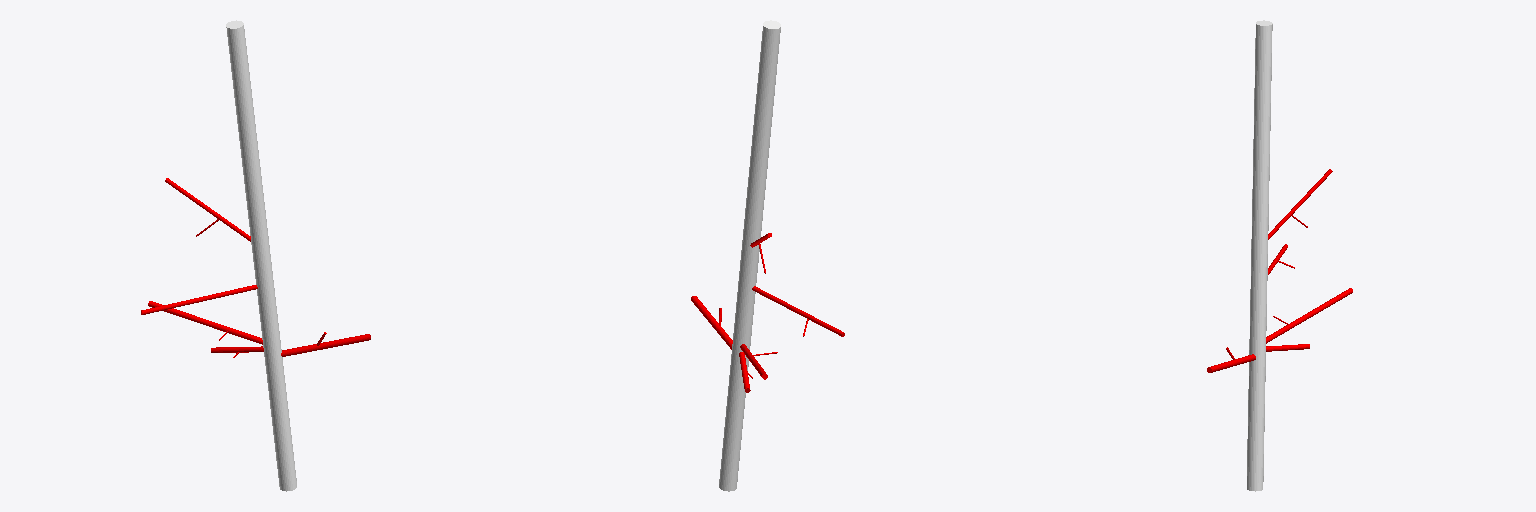
The robot description file, URDF, robot "tree_181.urdf":
<?xml version='1.0' encoding='UTF-8'?>
<robot name="tree_181.urdf">
  <link name="branch_0">
    <inertial>
      <origin xyz="0.0 0.0 0.0" rpy="0.0 -0.0 0.0"/>
      <mass value="0.1"/>
      <inertia ixx="0.001" ixy="0.0" ixz="0.0" iyy="0.001" iyz="0.0" izz="0.001"/>
    </inertial>
    <visual name="branch_0_visual">
      <geometry>
        <cylinder radius="0.11733479107536732" length="6.85242201876696"/>
      </geometry>
      <material name="branch_material"/>
      <origin xyz="-0.36778526017082525 0.0646583247867556 3.4058002267099305" rpy="-6.834086191767504e-18 0.10920778779354538 2.967566444187684"/>
    </visual>
    <collision name="branch_0_collision">
      <geometry>
        <cylinder radius="0.11733479107536732" length="6.85242201876696"/>
      </geometry>
      <origin xyz="-0.36778526017082525 0.0646583247867556 3.4058002267099305" rpy="-6.834086191767504e-18 0.10920778779354538 2.967566444187684"/>
    </collision>
  </link>
  <link name="branch_1">
    <inertial>
      <origin xyz="0.0 0.0 0.0" rpy="0.0 -0.0 0.0"/>
      <mass value="0.1"/>
      <inertia ixx="0.001" ixy="0.0" ixz="0.0" iyy="0.001" iyz="0.0" izz="0.001"/>
    </inertial>
    <visual name="branch_1_visual">
      <geometry>
        <cylinder radius="0.03174884220037693" length="1.705988243956106"/>
      </geometry>
      <material name="semantic_material"/>
      <origin xyz="0.0 0.0 0.0" rpy="0.0 -0.0 0.0"/>
    </visual>
    <collision name="branch_1_collision">
      <geometry>
        <cylinder radius="0.03174884220037693" length="1.705988243956106"/>
      </geometry>
      <origin xyz="0.0 0.0 0.0" rpy="0.0 -0.0 0.0"/>
    </collision>
  </link>
  <link name="branch_2">
    <inertial>
      <origin xyz="0.0 0.0 0.0" rpy="0.0 -0.0 0.0"/>
      <mass value="0.1"/>
      <inertia ixx="0.001" ixy="0.0" ixz="0.0" iyy="0.001" iyz="0.0" izz="0.001"/>
    </inertial>
    <visual name="branch_2_visual">
      <geometry>
        <cylinder radius="0.011714505827955277" length="0.3103376455980843"/>
      </geometry>
      <material name="semantic_material"/>
      <origin xyz="0.0 0.0 0.0" rpy="0.0 -0.0 0.0"/>
    </visual>
    <collision name="branch_2_collision">
      <geometry>
        <cylinder radius="0.011714505827955277" length="0.3103376455980843"/>
      </geometry>
      <origin xyz="0.0 0.0 0.0" rpy="0.0 -0.0 0.0"/>
    </collision>
  </link>
  <link name="branch_3">
    <inertial>
      <origin xyz="0.0 0.0 0.0" rpy="0.0 -0.0 0.0"/>
      <mass value="0.1"/>
      <inertia ixx="0.001" ixy="0.0" ixz="0.0" iyy="0.001" iyz="0.0" izz="0.001"/>
    </inertial>
    <visual name="branch_3_visual">
      <geometry>
        <cylinder radius="0.037587935544285474" length="0.894181791258959"/>
      </geometry>
      <material name="semantic_material"/>
      <origin xyz="0.0 0.0 0.0" rpy="0.0 -0.0 0.0"/>
    </visual>
    <collision name="branch_3_collision">
      <geometry>
        <cylinder radius="0.037587935544285474" length="0.894181791258959"/>
      </geometry>
      <origin xyz="0.0 0.0 0.0" rpy="0.0 -0.0 0.0"/>
    </collision>
  </link>
  <link name="branch_4">
    <inertial>
      <origin xyz="0.0 0.0 0.0" rpy="0.0 -0.0 0.0"/>
      <mass value="0.1"/>
      <inertia ixx="0.001" ixy="0.0" ixz="0.0" iyy="0.001" iyz="0.0" izz="0.001"/>
    </inertial>
    <visual name="branch_4_visual">
      <geometry>
        <cylinder radius="0.010607137601296937" length="0.1483028019796115"/>
      </geometry>
      <material name="semantic_material"/>
      <origin xyz="0.0 0.0 0.0" rpy="0.0 -0.0 0.0"/>
    </visual>
    <collision name="branch_4_collision">
      <geometry>
        <cylinder radius="0.010607137601296937" length="0.1483028019796115"/>
      </geometry>
      <origin xyz="0.0 0.0 0.0" rpy="0.0 -0.0 0.0"/>
    </collision>
  </link>
  <link name="branch_5">
    <inertial>
      <origin xyz="0.0 0.0 0.0" rpy="0.0 -0.0 0.0"/>
      <mass value="0.1"/>
      <inertia ixx="0.001" ixy="0.0" ixz="0.0" iyy="0.001" iyz="0.0" izz="0.001"/>
    </inertial>
    <visual name="branch_5_visual">
      <geometry>
        <cylinder radius="0.044321845751592474" length="1.3082924685903197"/>
      </geometry>
      <material name="semantic_material"/>
      <origin xyz="0.0 0.0 0.0" rpy="0.0 -0.0 0.0"/>
    </visual>
    <collision name="branch_5_collision">
      <geometry>
        <cylinder radius="0.044321845751592474" length="1.3082924685903197"/>
      </geometry>
      <origin xyz="0.0 0.0 0.0" rpy="0.0 -0.0 0.0"/>
    </collision>
  </link>
  <link name="branch_6">
    <inertial>
      <origin xyz="0.0 0.0 0.0" rpy="0.0 -0.0 0.0"/>
      <mass value="0.1"/>
      <inertia ixx="0.001" ixy="0.0" ixz="0.0" iyy="0.001" iyz="0.0" izz="0.001"/>
    </inertial>
    <visual name="branch_6_visual">
      <geometry>
        <cylinder radius="0.01758447121527923" length="0.2861287694545968"/>
      </geometry>
      <material name="semantic_material"/>
      <origin xyz="0.0 0.0 0.0" rpy="0.0 -0.0 0.0"/>
    </visual>
    <collision name="branch_6_collision">
      <geometry>
        <cylinder radius="0.01758447121527923" length="0.2861287694545968"/>
      </geometry>
      <origin xyz="0.0 0.0 0.0" rpy="0.0 -0.0 0.0"/>
    </collision>
  </link>
  <link name="branch_7">
    <inertial>
      <origin xyz="0.0 0.0 0.0" rpy="0.0 -0.0 0.0"/>
      <mass value="0.1"/>
      <inertia ixx="0.001" ixy="0.0" ixz="0.0" iyy="0.001" iyz="0.0" izz="0.001"/>
    </inertial>
    <visual name="branch_7_visual">
      <geometry>
        <cylinder radius="0.029901066870894364" length="1.5221046105760745"/>
      </geometry>
      <material name="semantic_material"/>
      <origin xyz="0.0 0.0 0.0" rpy="0.0 -0.0 0.0"/>
    </visual>
    <collision name="branch_7_collision">
      <geometry>
        <cylinder radius="0.029901066870894364" length="1.5221046105760745"/>
      </geometry>
      <origin xyz="0.0 0.0 0.0" rpy="0.0 -0.0 0.0"/>
    </collision>
  </link>
  <link name="branch_8">
    <inertial>
      <origin xyz="0.0 0.0 0.0" rpy="0.0 -0.0 0.0"/>
      <mass value="0.1"/>
      <inertia ixx="0.001" ixy="0.0" ixz="0.0" iyy="0.001" iyz="0.0" izz="0.001"/>
    </inertial>
    <visual name="branch_8_visual">
      <geometry>
        <cylinder radius="0.011716744007432712" length="0.4544702643584816"/>
      </geometry>
      <material name="semantic_material"/>
      <origin xyz="0.0 0.0 0.0" rpy="0.0 -0.0 0.0"/>
    </visual>
    <collision name="branch_8_collision">
      <geometry>
        <cylinder radius="0.011716744007432712" length="0.4544702643584816"/>
      </geometry>
      <origin xyz="0.0 0.0 0.0" rpy="0.0 -0.0 0.0"/>
    </collision>
  </link>
  <link name="branch_9">
    <inertial>
      <origin xyz="0.0 0.0 0.0" rpy="0.0 -0.0 0.0"/>
      <mass value="0.1"/>
      <inertia ixx="0.001" ixy="0.0" ixz="0.0" iyy="0.001" iyz="0.0" izz="0.001"/>
    </inertial>
    <visual name="branch_9_visual">
      <geometry>
        <cylinder radius="0.03892439259442769" length="1.7427168521473009"/>
      </geometry>
      <material name="semantic_material"/>
      <origin xyz="0.0 0.0 0.0" rpy="0.0 -0.0 0.0"/>
    </visual>
    <collision name="branch_9_collision">
      <geometry>
        <cylinder radius="0.03892439259442769" length="1.7427168521473009"/>
      </geometry>
      <origin xyz="0.0 0.0 0.0" rpy="0.0 -0.0 0.0"/>
    </collision>
  </link>
  <link name="branch_10">
    <inertial>
      <origin xyz="0.0 0.0 0.0" rpy="0.0 -0.0 0.0"/>
      <mass value="0.1"/>
      <inertia ixx="0.001" ixy="0.0" ixz="0.0" iyy="0.001" iyz="0.0" izz="0.001"/>
    </inertial>
    <visual name="branch_10_visual">
      <geometry>
        <cylinder radius="0.01" length="0.37343498881977044"/>
      </geometry>
      <material name="semantic_material"/>
      <origin xyz="0.0 0.0 0.0" rpy="0.0 -0.0 0.0"/>
    </visual>
    <collision name="branch_10_collision">
      <geometry>
        <cylinder radius="0.01" length="0.37343498881977044"/>
      </geometry>
      <origin xyz="0.0 0.0 0.0" rpy="0.0 -0.0 0.0"/>
    </collision>
  </link>
  <joint name="joint_0_1" type="fixed">
    <parent link="branch_0"/>
    <child link="branch_1"/>
    <axis xyz="1. 0. 0."/>
    <origin xyz="-1.1489854482140536 0.24601847852139966 2.893513467075248" rpy="-3.0869634996772786 1.4691592838124008 -0.1702281877756932"/>
  </joint>
  <joint name="joint_0_3" type="fixed">
    <parent link="branch_0"/>
    <child link="branch_3"/>
    <axis xyz="1. 0. 0."/>
    <origin xyz="-0.4738233448233057 0.39426608822378933 1.9410382536204223" rpy="-2.7984266597250547 1.3449786378825357 -0.5991213957556952"/>
  </joint>
  <joint name="joint_0_5" type="fixed">
    <parent link="branch_0"/>
    <child link="branch_5"/>
    <axis xyz="1. 0. 0."/>
    <origin xyz="0.3324663405427859 -0.2996219998895988 2.0851162237093686" rpy="0.1783923779954479 1.3441764146974575 -0.3725748978824316"/>
  </joint>
  <joint name="joint_0_7" type="fixed">
    <parent link="branch_0"/>
    <child link="branch_7"/>
    <axis xyz="1. 0. 0."/>
    <origin xyz="-0.8127530602187466 0.5653083727409746 3.9309699507642493" rpy="-0.1434951715384007 1.0374041390248547 2.1164049505932887"/>
  </joint>
  <joint name="joint_0_9" type="fixed">
    <parent link="branch_0"/>
    <child link="branch_9"/>
    <axis xyz="1. 0. 0."/>
    <origin xyz="-0.7791615303483911 0.6930943892255134 2.263377196637854" rpy="-0.3595866586071799 1.3671700318373177 1.9063580270571039"/>
  </joint>
  <joint name="joint_1_2" type="fixed">
    <parent link="branch_0"/>
    <child link="branch_2"/>
    <axis xyz="1. 0. 0."/>
    <origin xyz="-1.4127493187697593 0.4271963081841074 2.7920850938671187" rpy="-2.1018608922862074 0.14933158275200306 0.18992186775415773"/>
  </joint>
  <joint name="joint_3_4" type="fixed">
    <parent link="branch_0"/>
    <child link="branch_4"/>
    <axis xyz="1. 0. 0."/>
    <origin xyz="-0.543951971380356 0.4025592205861148 1.8951271635305607" rpy="2.1835540472334927 0.11004305510549511 -1.4115320624173882"/>
  </joint>
  <joint name="joint_5_6" type="fixed">
    <parent link="branch_0"/>
    <child link="branch_6"/>
    <axis xyz="1. 0. 0."/>
    <origin xyz="0.30219073883774356 -0.32682386699406907 2.1923573657922844" rpy="-0.369290986345728 -0.3868241342319226 2.8115418467294804"/>
  </joint>
  <joint name="joint_7_8" type="fixed">
    <parent link="branch_0"/>
    <child link="branch_8"/>
    <axis xyz="1. 0. 0."/>
    <origin xyz="-0.8628596297030819 0.6069395906949796 3.7175967661828446" rpy="3.078269824063774 0.8283410068497825 -0.8806841955980681"/>
  </joint>
  <joint name="joint_9_10" type="fixed">
    <parent link="branch_0"/>
    <child link="branch_10"/>
    <axis xyz="1. 0. 0."/>
    <origin xyz="-0.7577806102050852 0.37896352324435617 2.222622574368901" rpy="1.5290472662285624 0.19067461467069036 -0.8630076829829424"/>
  </joint>
  <material name="branch_material">
    <color rgba="1. 1. 1. 1."/>
  </material>
  <material name="semantic_material">
    <color rgba="1. 0. 0. 1."/>
  </material>
</robot>

--- What the picture shows (computed from the rendered views, not written in the file) ---
Views: 3 orthographic renders of the robot side by side, from view 1: azimuth 30°, elevation 25°; view 2: azimuth 150°, elevation 25°; view 3: azimuth 270°, elevation 25°.
Model tree_181.urdf with 11 links and 10 joints (10 fixed), rooted at branch_0, posed every joint at zero.
Links seen in each view (by area): view 1: branch_0, branch_9, branch_5, branch_1; view 2: branch_0; view 3: branch_0, branch_9.
Link boxes in pixels (x1,y1,x2,y2): branch_0: (226, 20, 296, 491); branch_9: (148, 301, 262, 344); branch_5: (281, 334, 370, 356); branch_1: (141, 285, 257, 314); branch_0: (719, 20, 780, 491); branch_0: (1247, 20, 1272, 491); branch_9: (1266, 288, 1352, 343).
Size in the robot's own frame: 2.88 by 2.05 by 6.84 metres.
Geometry: primitives only (box / cylinder / sphere), no mesh files.